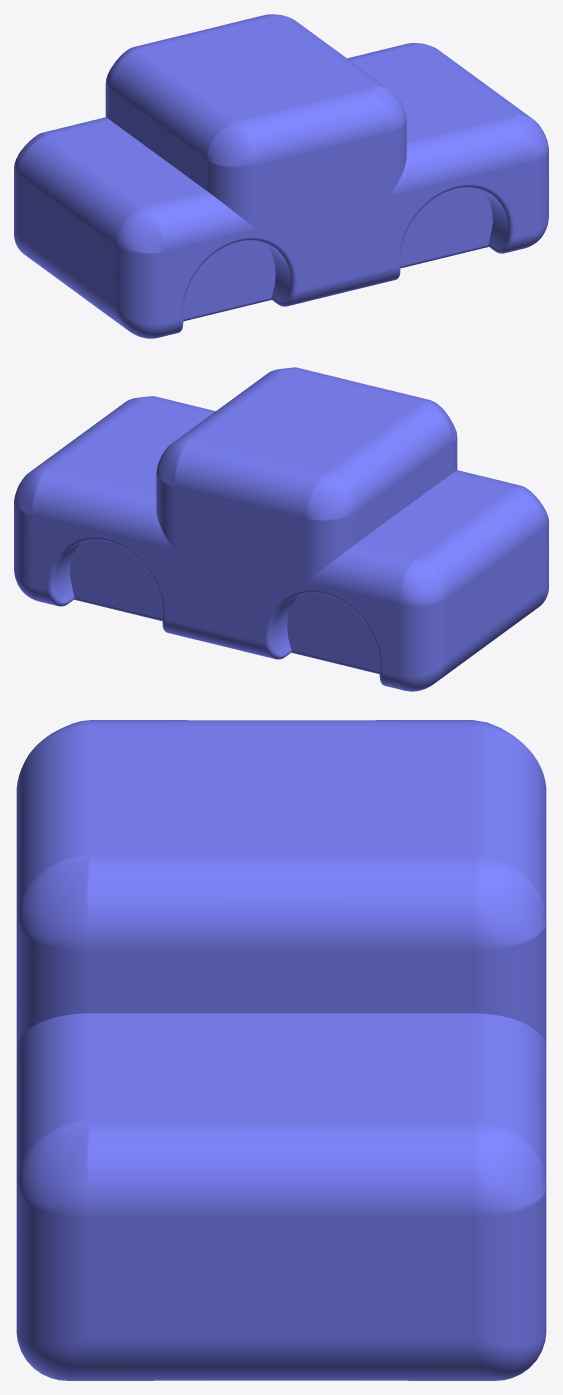
The model's file is Car.fbx.
3 renders of one model, top to bottom at view 1: azimuth 30°, elevation 25°; view 2: azimuth 150°, elevation 25°; view 3: azimuth 270°, elevation 25°, orthographic. The views are drawn at different scales.
Parts seen in each view (by area): view 1: Object_1; view 2: Object_1; view 3: Object_1.
Boxes of the visible parts, left/top/right/bottom form: Object_1: left=14, top=14, right=548, bottom=338; Object_1: left=14, top=367, right=548, bottom=691; Object_1: left=16, top=720, right=546, bottom=1380.
Bounding box in the file's own units: 144 × 77.2 × 60.99.
